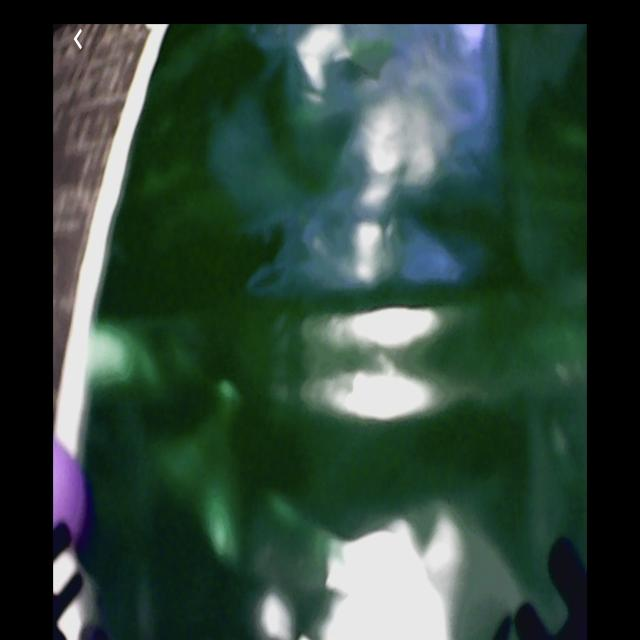ball: (54, 429, 86, 539)
